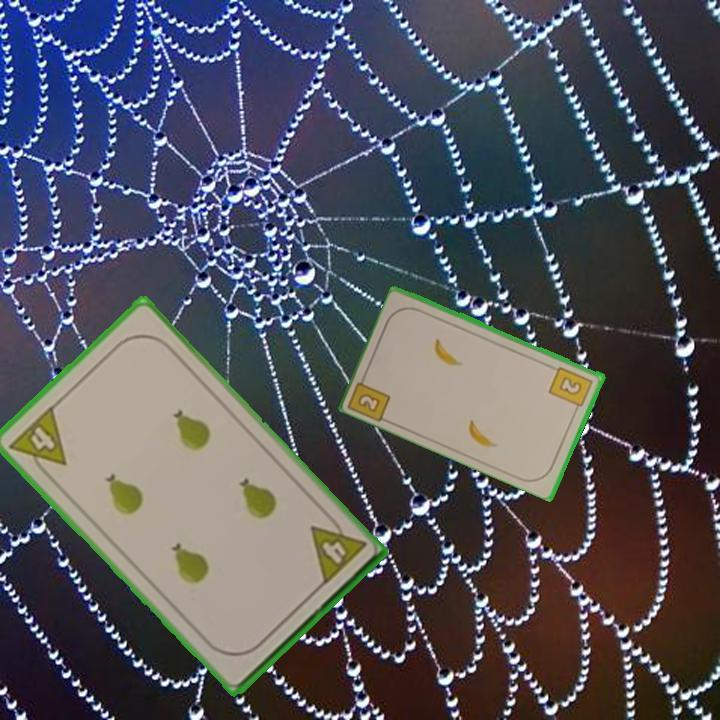2b: (546, 363, 596, 415), (347, 369, 394, 424)
4p: (5, 402, 70, 483), (306, 510, 369, 588)
